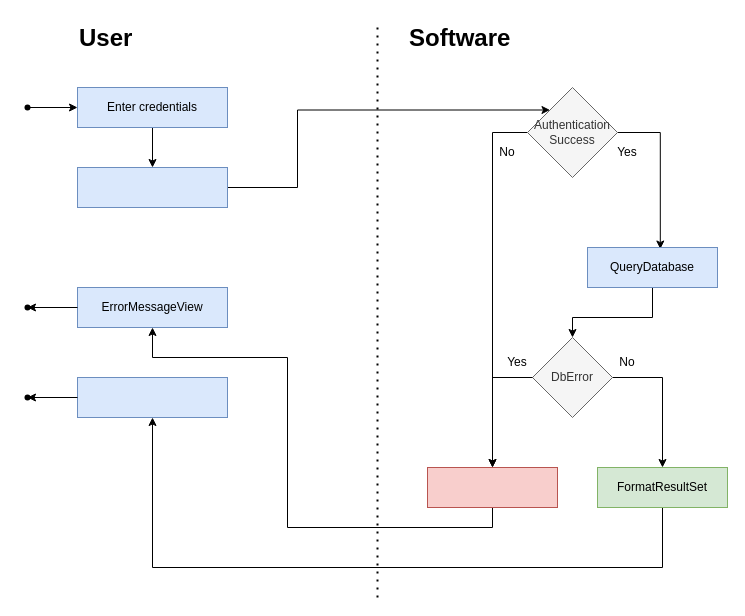
This 745x616 diagram has some shape labels left out. The box of each missing label's shape, as (x1, y1, x2, y2) in pixels:
ErrorResponse: (426, 466, 558, 508)
ProjectsView: (76, 376, 228, 418)
SubmitLogIn: (76, 166, 228, 208)
